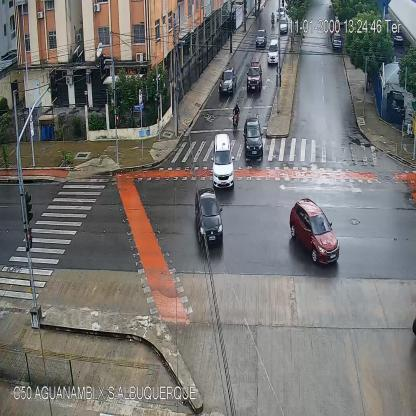car: (289, 199, 338, 265), (195, 188, 223, 246), (212, 134, 234, 190), (244, 118, 262, 159), (247, 61, 261, 90), (220, 69, 234, 94), (267, 40, 278, 64), (256, 28, 265, 47), (278, 18, 288, 34), (333, 35, 341, 49), (277, 7, 285, 20)
motorbike: (233, 104, 239, 128), (271, 12, 274, 25)
